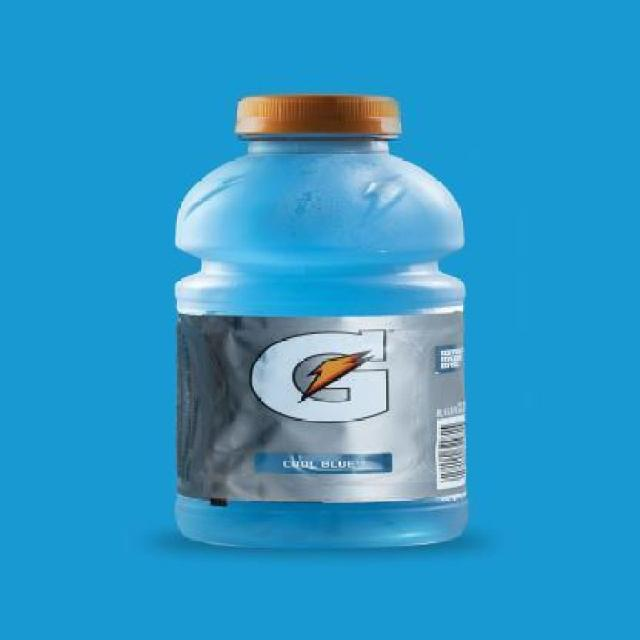bottle: (153, 83, 495, 563)
